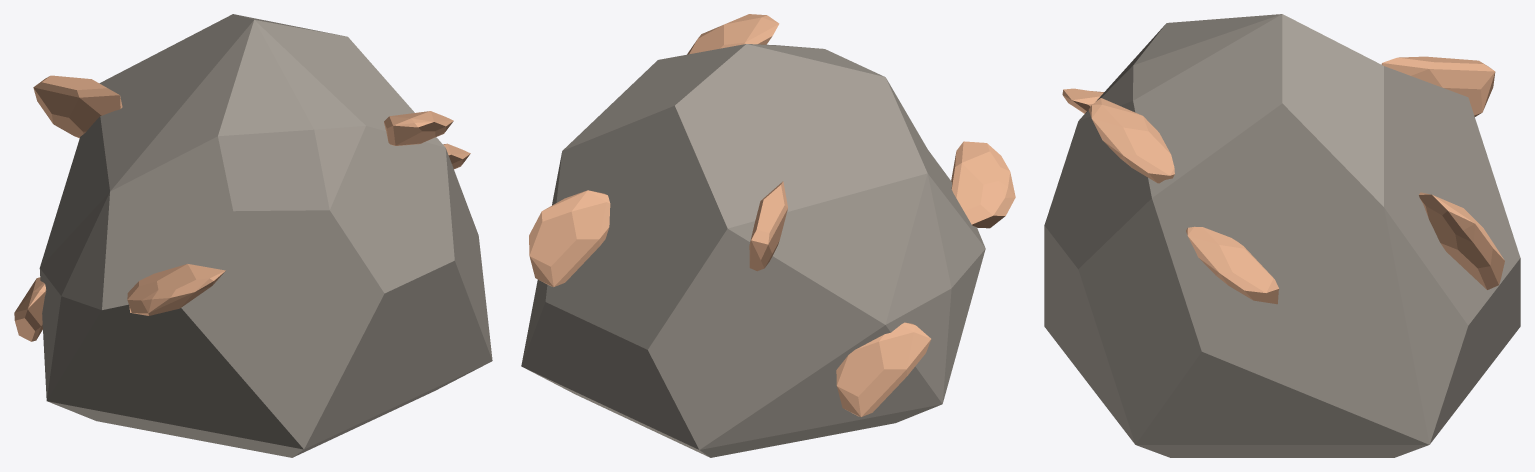
The model's file is Iron.fbx.
The picture shows the model from 3 angles, left to right: view 1: azimuth 30°, elevation 25°; view 2: azimuth 150°, elevation 25°; view 3: azimuth 270°, elevation 25°; orthographic projection. The views are drawn at different scales.
Visible parts, largest first — view 1: Rock, Ore.002, Ore.003, Ore, Ore.005; view 2: Rock, Ore.001, Ore.005, Ore.003, Ore.002, Ore; view 3: Rock, Ore, Ore.001, Ore.004, Ore.002, Ore.003.
Boxes of the visible parts, left/top/right/bottom form: Rock: left=39, top=14, right=492, bottom=457; Ore.002: left=33, top=75, right=122, bottom=138; Ore.003: left=127, top=264, right=225, bottom=315; Ore: left=384, top=111, right=453, bottom=145; Ore.005: left=14, top=277, right=46, bottom=341; Rock: left=521, top=44, right=985, bottom=457; Ore.001: left=529, top=190, right=610, bottom=286; Ore.005: left=836, top=322, right=931, bottom=416; Ore.003: left=951, top=141, right=1015, bottom=228; Ore.002: left=749, top=181, right=787, bottom=271; Ore: left=687, top=14, right=779, bottom=54; Rock: left=1044, top=14, right=1520, bottom=457; Ore: left=1088, top=98, right=1174, bottom=183; Ore.001: left=1419, top=192, right=1504, bottom=289; Ore.004: left=1186, top=226, right=1279, bottom=304; Ore.002: left=1381, top=56, right=1495, bottom=116; Ore.003: left=1062, top=88, right=1103, bottom=113.
Bounding box in the file's own units: 86.54 × 74.69 × 85.06.
